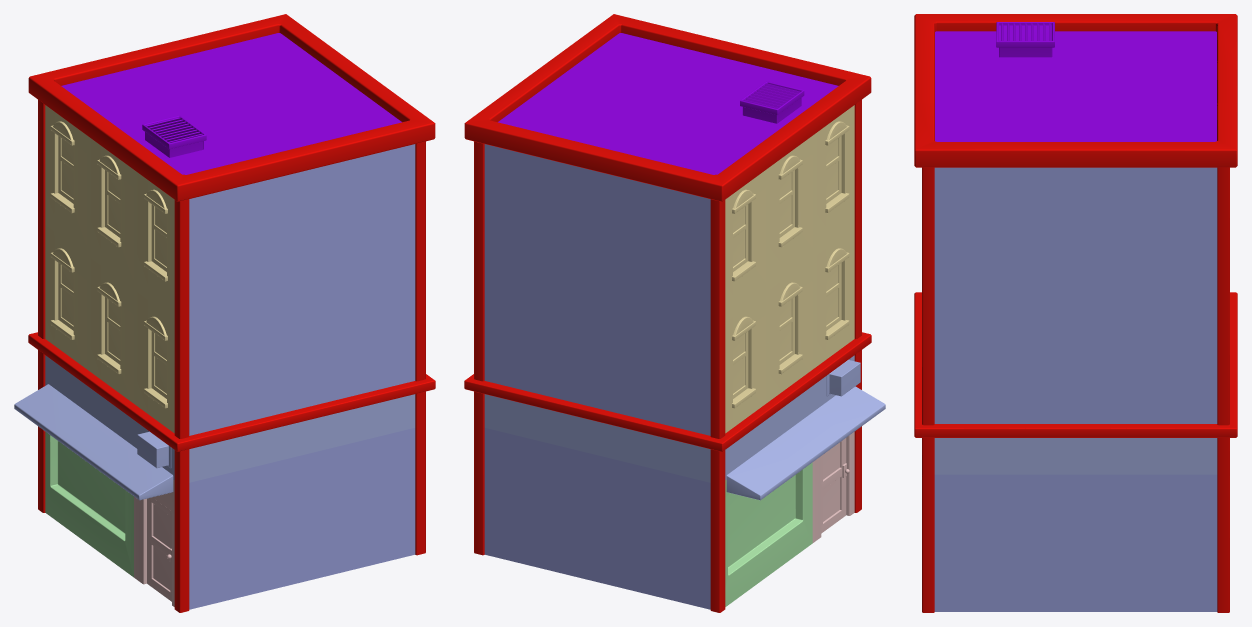
3 renders of one model, left to right at view 1: azimuth 30°, elevation 25°; view 2: azimuth 150°, elevation 25°; view 3: azimuth 270°, elevation 25°, orthographic. The views are drawn at different scales.
Visible parts, largest first — view 1: Tile pared Puerta.148, Tile pared Puerta.158, Tile pared Puerta.156, Tile pared Puerta.161, Tile pared Puerta.157, Tile pared Puerta.159, Tile pared Puerta.160, Tile pared Puerta.162, Tile pared Puerta.163, Tile pared Puerta.146, Cube.317, Tile pared Puerta.169 (+54 smaller); view 2: Tile pared Puerta.181, Tile pared Puerta.184, Tile pared Puerta.182, Tile pared Puerta.187, Tile pared Puerta.183, Tile pared Puerta.185, Tile pared Puerta.186, Tile pared Puerta.188, Tile pared Puerta.189, Tile pared Puerta.146, Cube.317, Tile pared Puerta.062 (+54 smaller); view 3: Tile pared Puerta.190, Tile pared Puerta.193, Tile pared Puerta.196, Tile pared Puerta.191, Tile pared Puerta.192, Tile pared Puerta.194, Tile pared Puerta.195, Tile pared Puerta.197, Tile pared Puerta.198, Plane.209, Plane.208, Plane.210 (+30 smaller).
Boxes of the visible parts, x1,y1,x2,y2 form: Tile pared Puerta.148: [261, 445, 342, 591]; Tile pared Puerta.158: [261, 276, 342, 417]; Tile pared Puerta.156: [342, 428, 415, 572]; Tile pared Puerta.161: [261, 162, 342, 295]; Tile pared Puerta.157: [189, 465, 261, 609]; Tile pared Puerta.159: [342, 258, 415, 398]; Tile pared Puerta.160: [189, 296, 261, 435]; Tile pared Puerta.162: [342, 144, 415, 276]; Tile pared Puerta.163: [189, 181, 261, 313]; Tile pared Puerta.146: [87, 247, 133, 403]; Cube.317: [14, 384, 173, 500]; Tile pared Puerta.169: [45, 217, 87, 369]; Tile pared Puerta.181: [557, 445, 638, 591]; Tile pared Puerta.184: [557, 276, 638, 417]; Tile pared Puerta.182: [484, 428, 557, 572]; Tile pared Puerta.187: [557, 162, 638, 295]; Tile pared Puerta.183: [638, 465, 710, 609]; Tile pared Puerta.185: [484, 258, 557, 398]; Tile pared Puerta.186: [638, 296, 710, 435]; Tile pared Puerta.188: [484, 144, 557, 276]; Tile pared Puerta.189: [638, 181, 710, 313]; Tile pared Puerta.146: [766, 247, 812, 403]; Cube.317: [726, 386, 885, 500]; Tile pared Puerta.062: [758, 462, 812, 577]; Tile pared Puerta.190: [1025, 474, 1126, 611]; Tile pared Puerta.193: [1025, 292, 1126, 423]; Tile pared Puerta.196: [1025, 167, 1126, 291]; Tile pared Puerta.191: [934, 474, 1025, 611]; Tile pared Puerta.192: [1126, 474, 1217, 611]; Tile pared Puerta.194: [934, 292, 1025, 423]; Tile pared Puerta.195: [1126, 292, 1217, 423]; Tile pared Puerta.197: [934, 167, 1025, 291]; Tile pared Puerta.198: [1126, 167, 1217, 291]; Plane.209: [1025, 69, 1126, 111]; Plane.208: [1126, 69, 1216, 111]; Plane.210: [935, 69, 1025, 111].
Bounding box in the file's own units: 705 × 1036 × 641.
